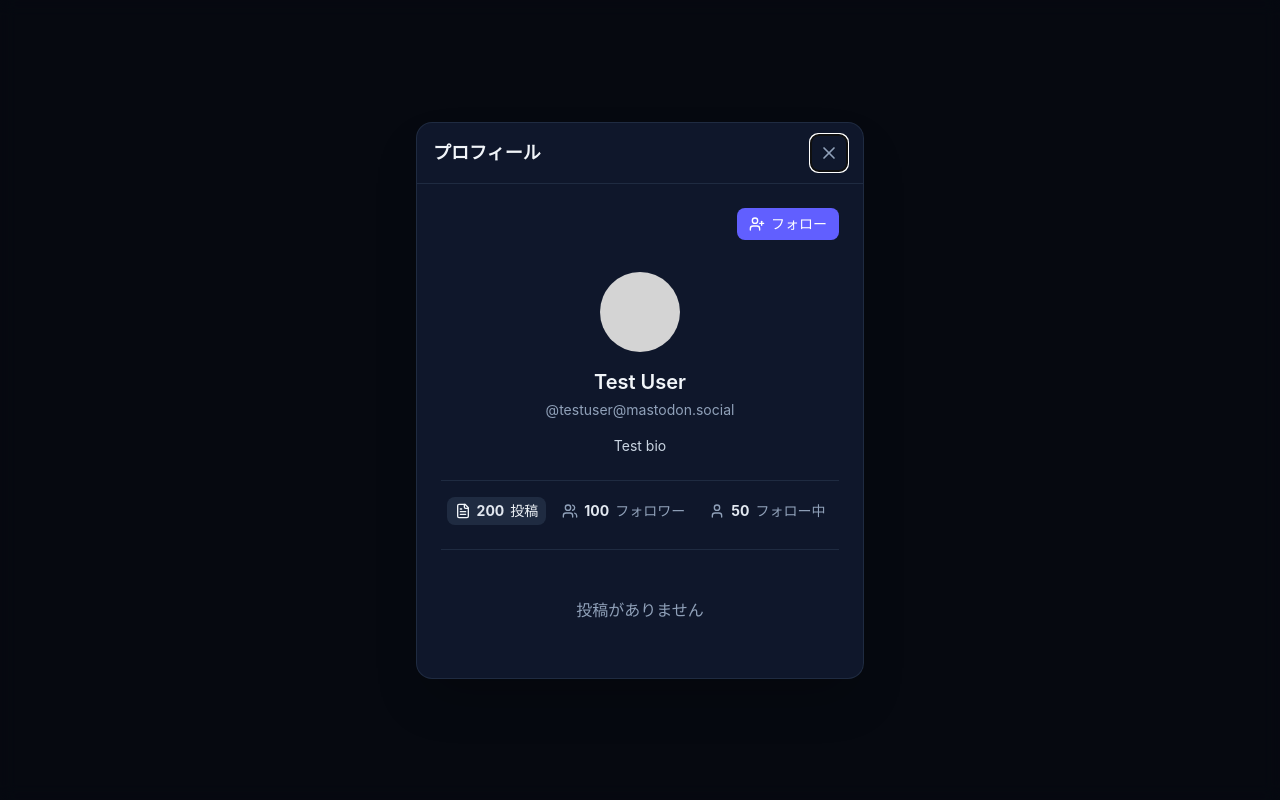
Test: ProfileModal › Tab navigation › shows followers loading state
What coordinates should you click on to do the following:
click the tab "100 フォロワー"
I would click on:
 (624, 510)
Its box is [554,496,693,524].
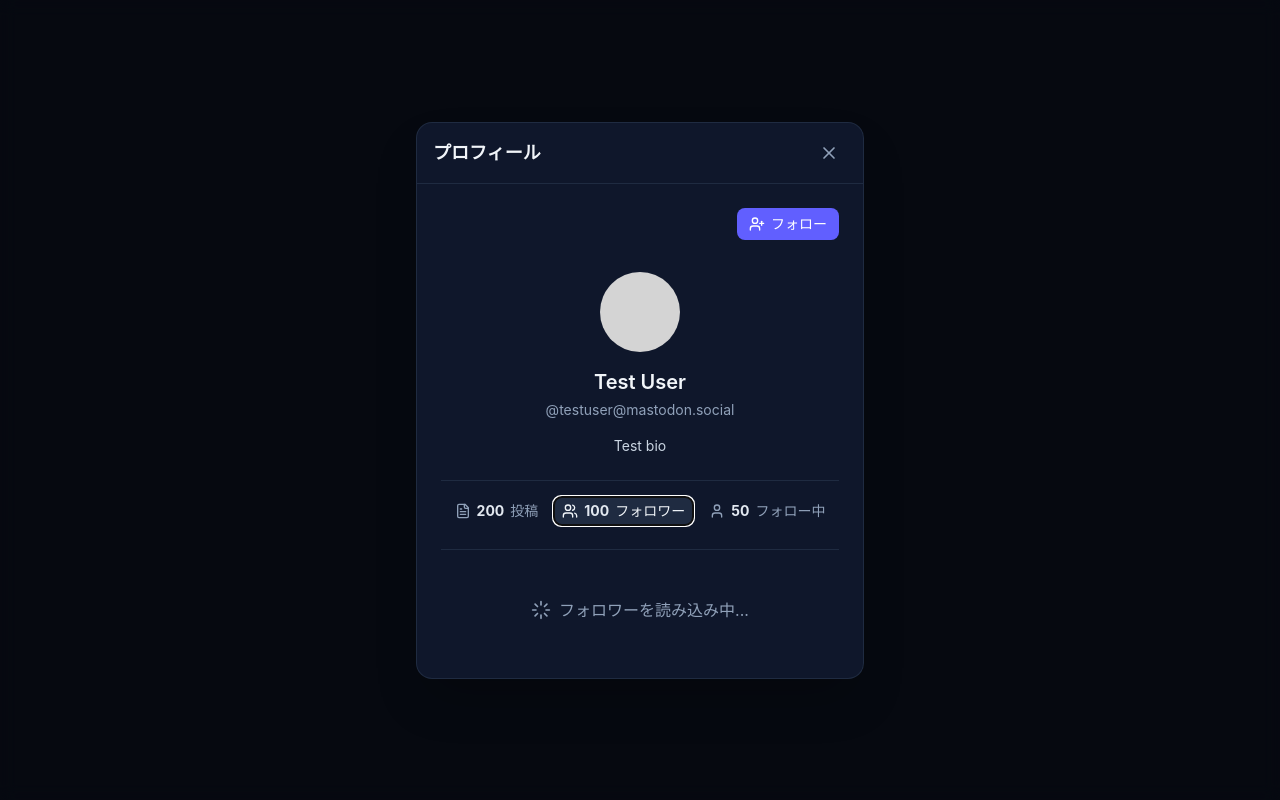
expect the text "フォロワーを読み込み中..." is shown: met, box [559,598,749,622]
